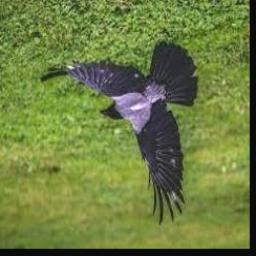Crow: (41, 40, 197, 226)
